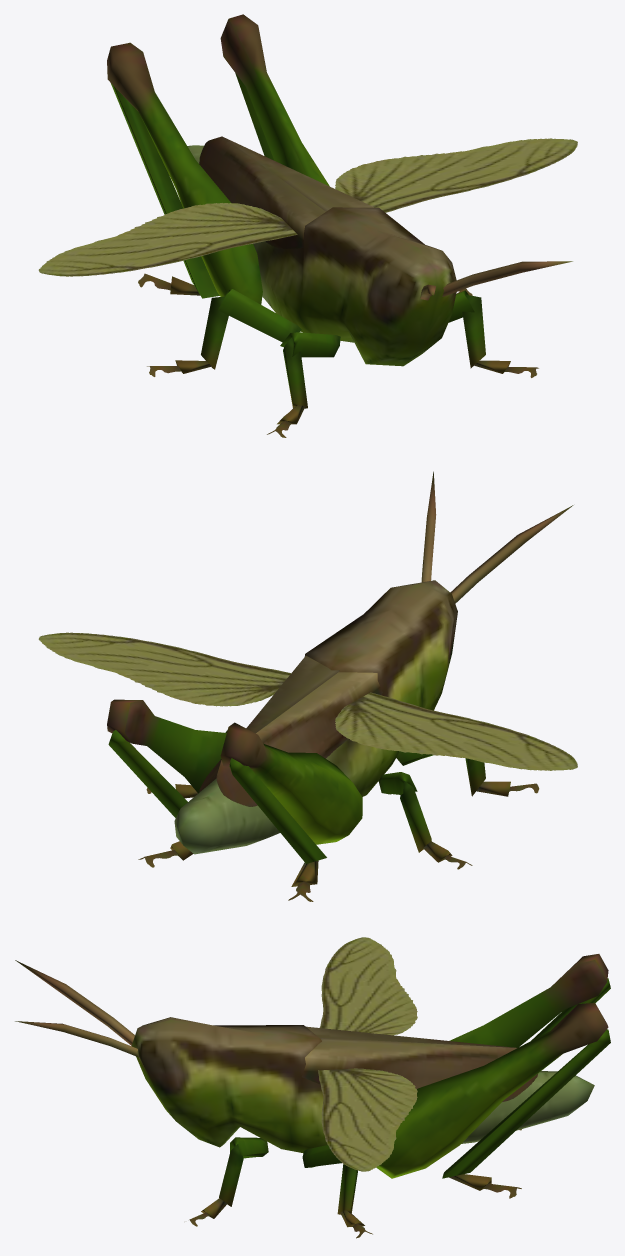
File: rice-grasshopper.glb
The picture shows the model from 3 angles, top to bottom: view 1: azimuth 30°, elevation 25°; view 2: azimuth 150°, elevation 25°; view 3: azimuth 270°, elevation 25°; orthographic projection. The views are drawn at different scales.
Bounding box in the file's own units: 3.71 × 1.37 × 3.89.
2 materials, 2 textured.
